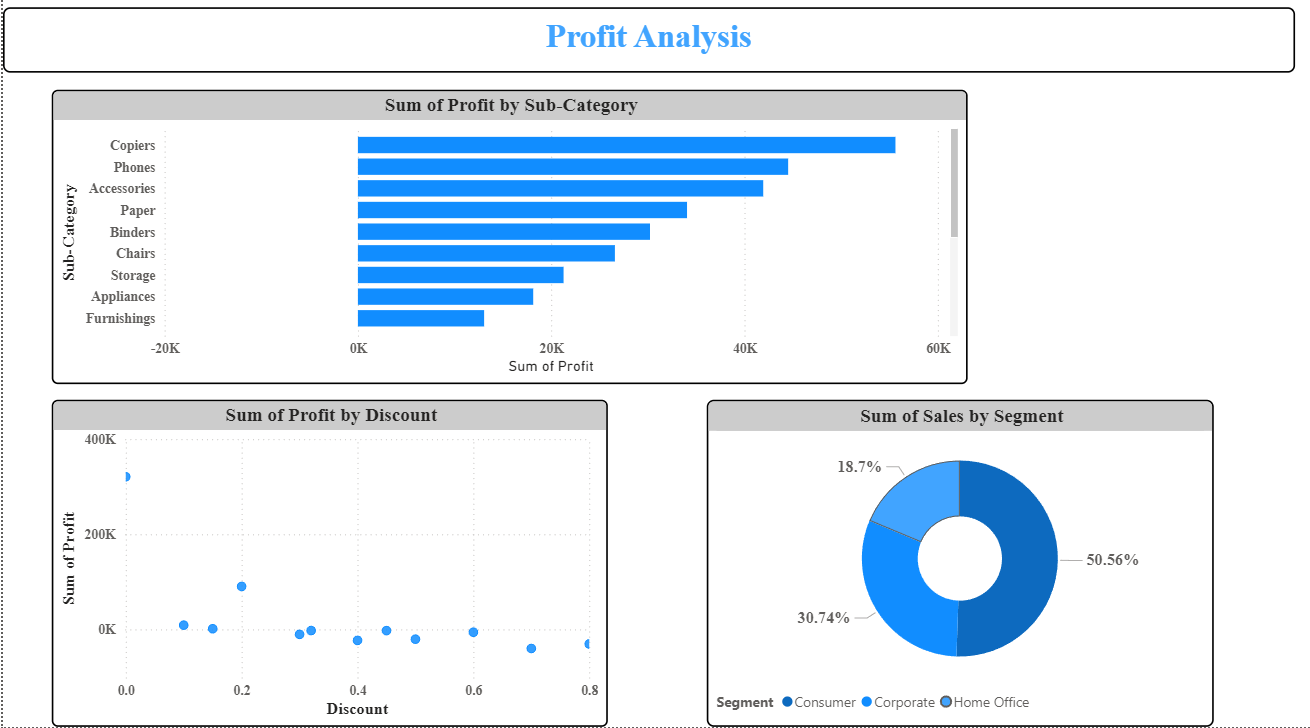

What the dashboard file says about the page in this screenshot:
{"tool":"powerbi","page":{"name":"Profit Analysis","canvas":[1280,720],"ordinal":2},"visuals":[{"type":"barChart","fields":{"Category":["CleanedSuperstore.Sub-Category"],"Y":["Sum(CleanedSuperstore.Profit)"]},"box":[48,96,896,288],"z":0},{"type":"scatterChart","fields":{"X":["CleanedSuperstore.Discount"],"Y":["Sum(CleanedSuperstore.Profit)"]},"box":[48,400,544,320],"z":1000},{"type":"donutChart","fields":{"Category":["CleanedSuperstore.Segment"],"Y":["Sum(CleanedSuperstore.Sales)"]},"box":[688,400,496,320],"z":2000},{"type":"textbox","box":[0,16,1264,48],"z":3000}]}

Visuals, with their boxes in screenshot pixels (x1, y1, x2, y2), scaled from the page's 1280x720 canvas onto the 1310x728 screenshot:
barChart - CleanedSuperstore.Sub-Category x Sum(CleanedSuperstore.Profit): [49,97,966,388]
scatterChart - CleanedSuperstore.Discount x Sum(CleanedSuperstore.Profit): [49,404,606,727]
donutChart - CleanedSuperstore.Segment x Sum(CleanedSuperstore.Sales): [704,404,1212,727]
textbox: [0,16,1294,65]
